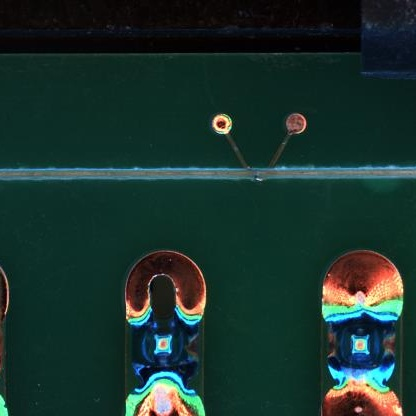spot: (127, 307, 202, 377), (326, 310, 397, 379)
